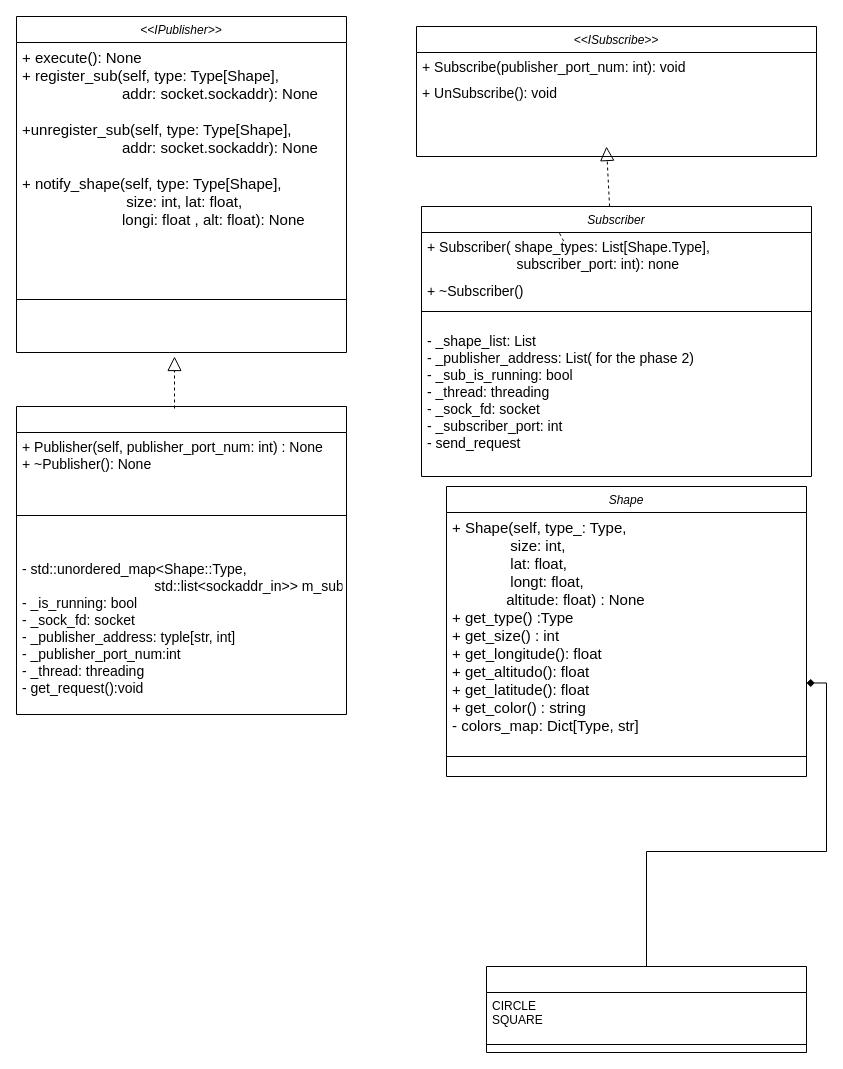
The diagram is 843 pixels wide and 1069 high, and some of its shapes have lost their labels. The shapes that lost their labels are listed below. From the top down, each one's box as (x1, y1, x2, y2) in pixels, then its label:
(16, 406, 346, 714): Publisher-under Udp
(486, 966, 806, 1052): Type(enum)
